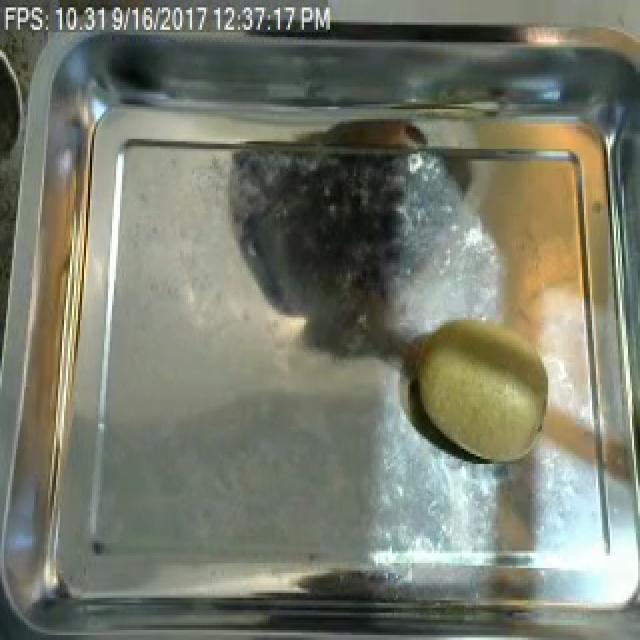Fruit: (406, 300, 558, 471)
